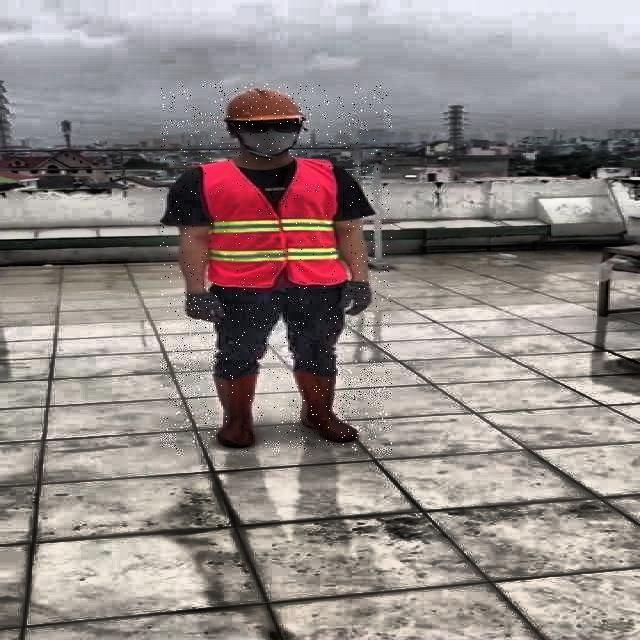safety_helmet: (220, 86, 306, 125)
safety_jacket: (197, 159, 347, 286)
